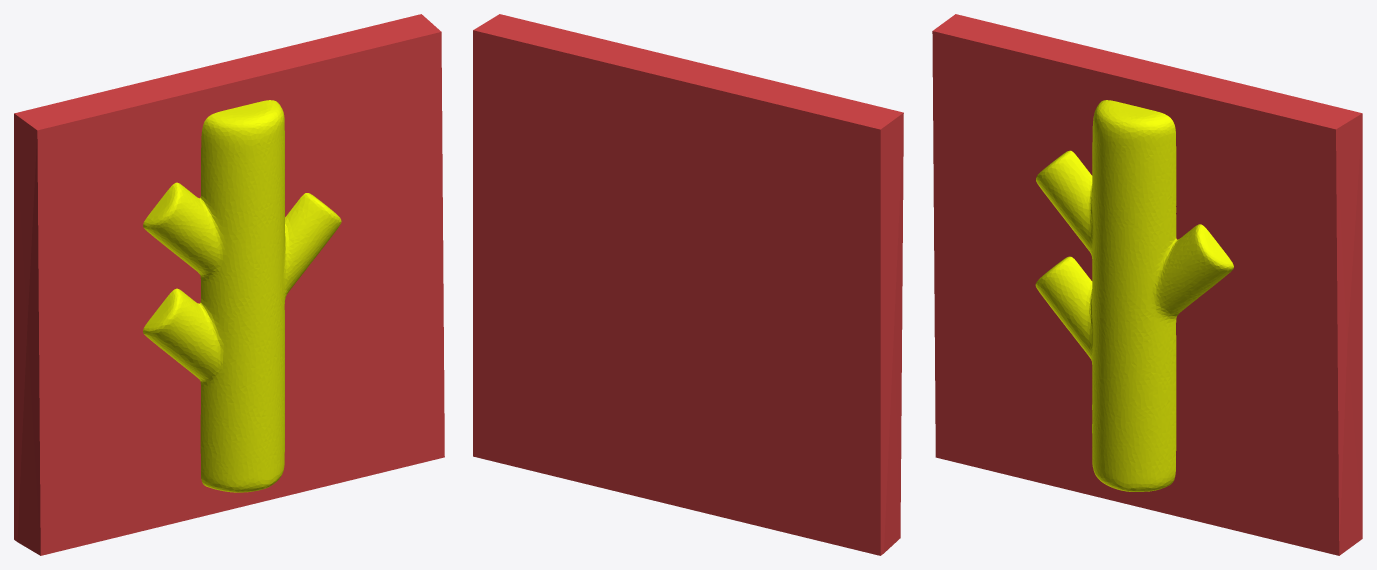
File: Stammheim_LOD1.glb
3 renders of one model, left to right at view 1: azimuth 30°, elevation 25°; view 2: azimuth 150°, elevation 25°; view 3: azimuth 330°, elevation 25°, orthographic.
Parts seen in each view (by area): view 1: Box, Cylinder 2; view 2: Box; view 3: Box, Cylinder 2.
Part boxes in pixels (bbox=[...]): Box: bbox=[14, 14, 444, 555]; Cylinder 2: bbox=[143, 100, 341, 492]; Box: bbox=[473, 14, 903, 555]; Box: bbox=[932, 14, 1362, 555]; Cylinder 2: bbox=[1035, 100, 1233, 491].
Size of the model in its own units: 4.1 by 4.1 by 0.7591.
